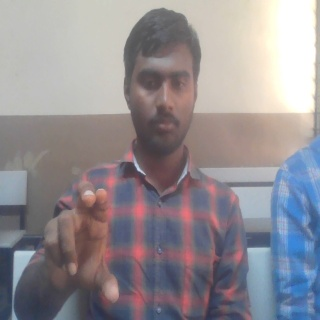Face: (121, 6, 202, 156)
No: (40, 178, 121, 304)
